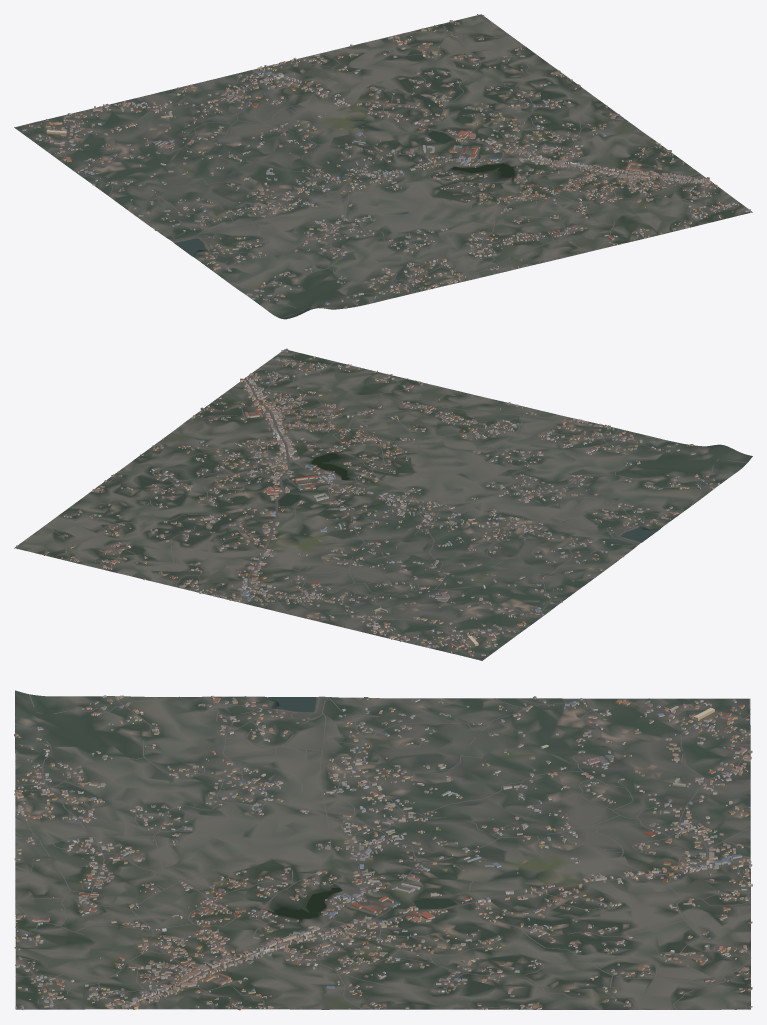
3 views of the same model, one above another, from view 1: azimuth 30°, elevation 25°; view 2: azimuth 150°, elevation 25°; view 3: azimuth 270°, elevation 25° (orthographic). The views are drawn at different scales.
Parts seen in each view (by area): view 1: ground, buildings, roads, water; view 2: ground, buildings, roads, water; view 3: ground, buildings, roads, water.
Boxes of the visible parts, bbox=[...] form: ground: bbox=[14, 14, 752, 319]; buildings: bbox=[22, 14, 751, 308]; roads: bbox=[14, 16, 738, 317]; water: bbox=[174, 130, 514, 255]; ground: bbox=[14, 349, 752, 660]; buildings: bbox=[16, 348, 719, 656]; roads: bbox=[15, 357, 747, 660]; water: bbox=[279, 453, 659, 542]; ground: bbox=[15, 690, 750, 1009]; buildings: bbox=[14, 695, 752, 1010]; roads: bbox=[15, 694, 750, 1009]; water: bbox=[268, 697, 456, 918].
Size of the model in its own units: 2811 by 67.24 by 2817.
